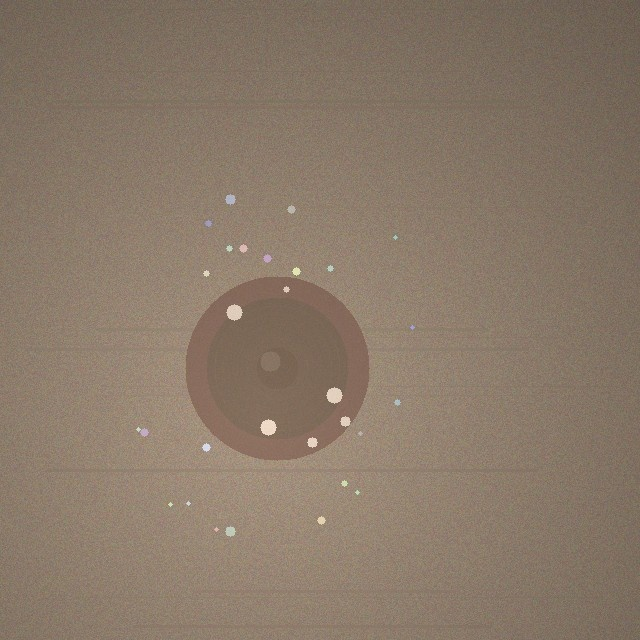overburn: (185, 276, 369, 460)
